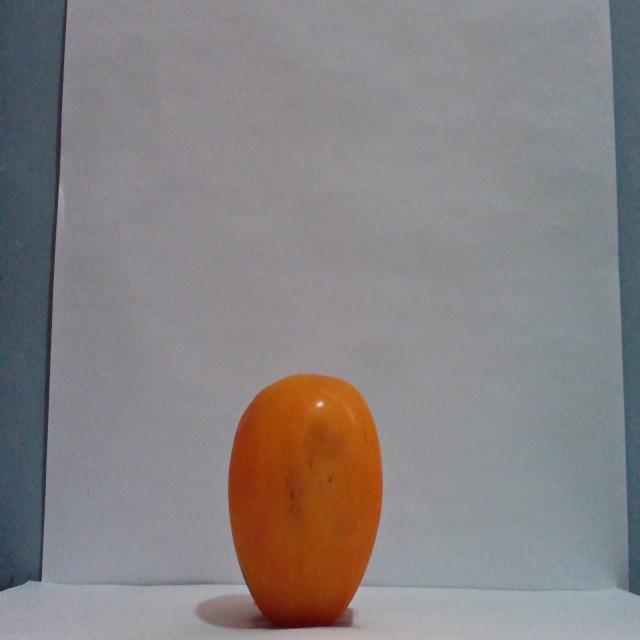Red: (226, 371, 384, 627)
